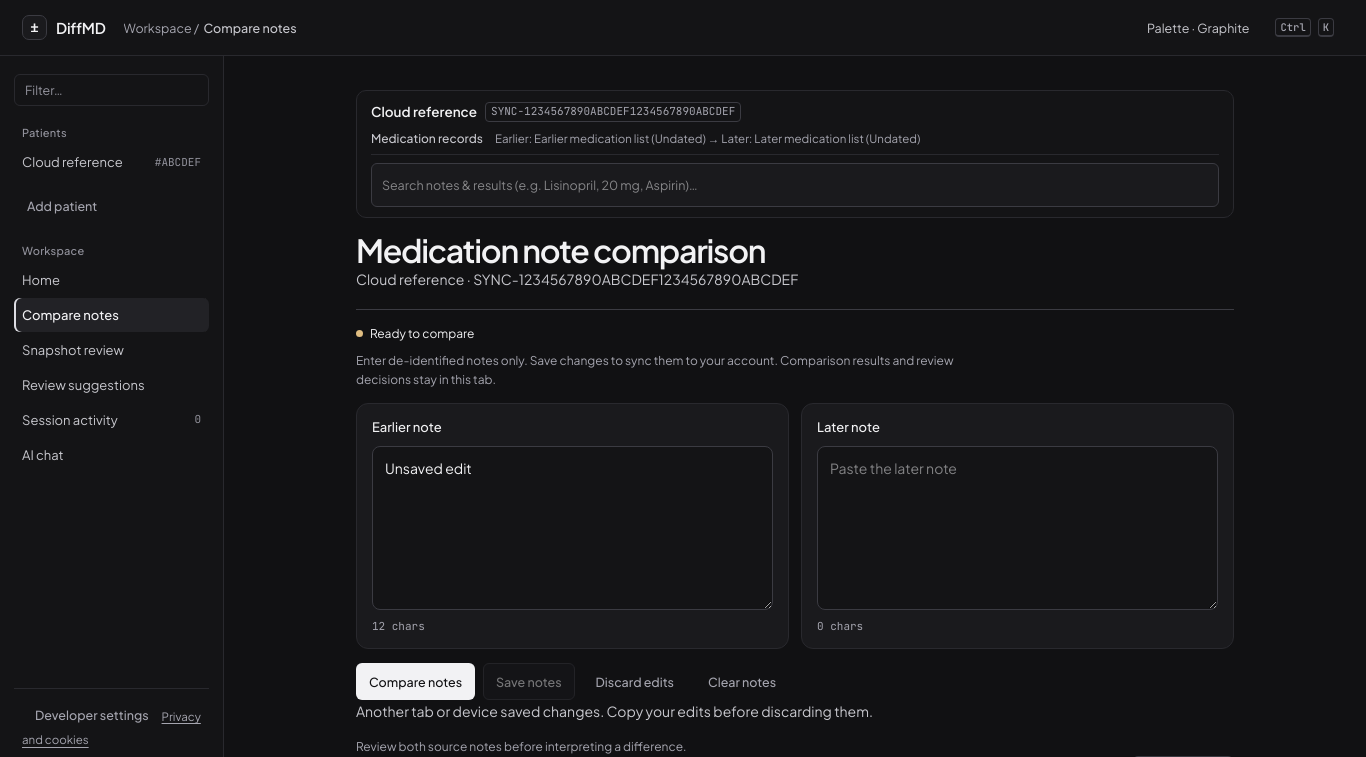
Test case: Account workspace › keeps unsaved edits visible when another device changes the account note
The width and height of the screenshot is (1366, 757).
Earlier steps of the test are not shown.
Expected: the text box labelled "Earlier note" holds "Unsaved edit", [372, 446, 773, 610]
Expected: the message "Another tab or device saved changes. Copy your edits before discarding them." is shown, [356, 702, 873, 720]
Click the button "Discard edits": x=635, y=682 [582, 664, 687, 700]
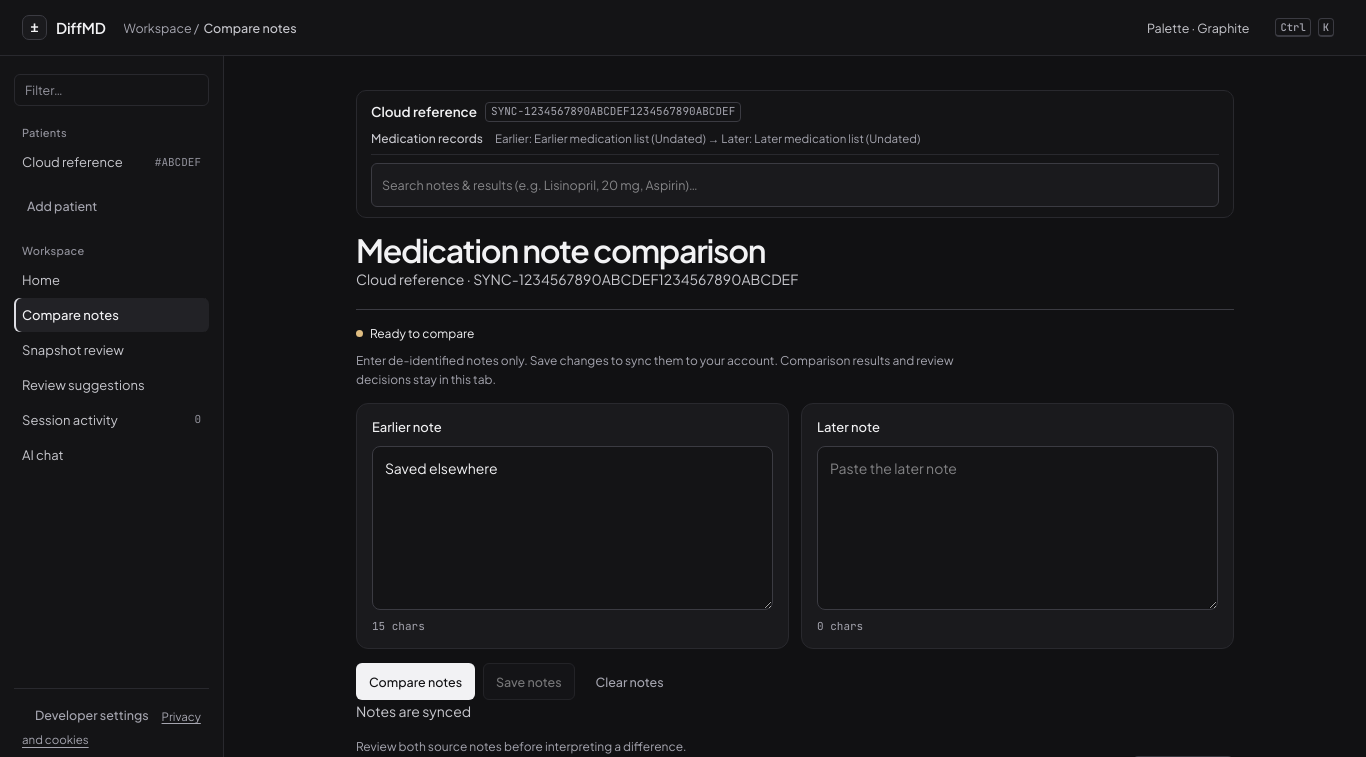
Expected: the text box labelled "Earlier note" holds "Saved elsewhere", [372, 446, 773, 610]
